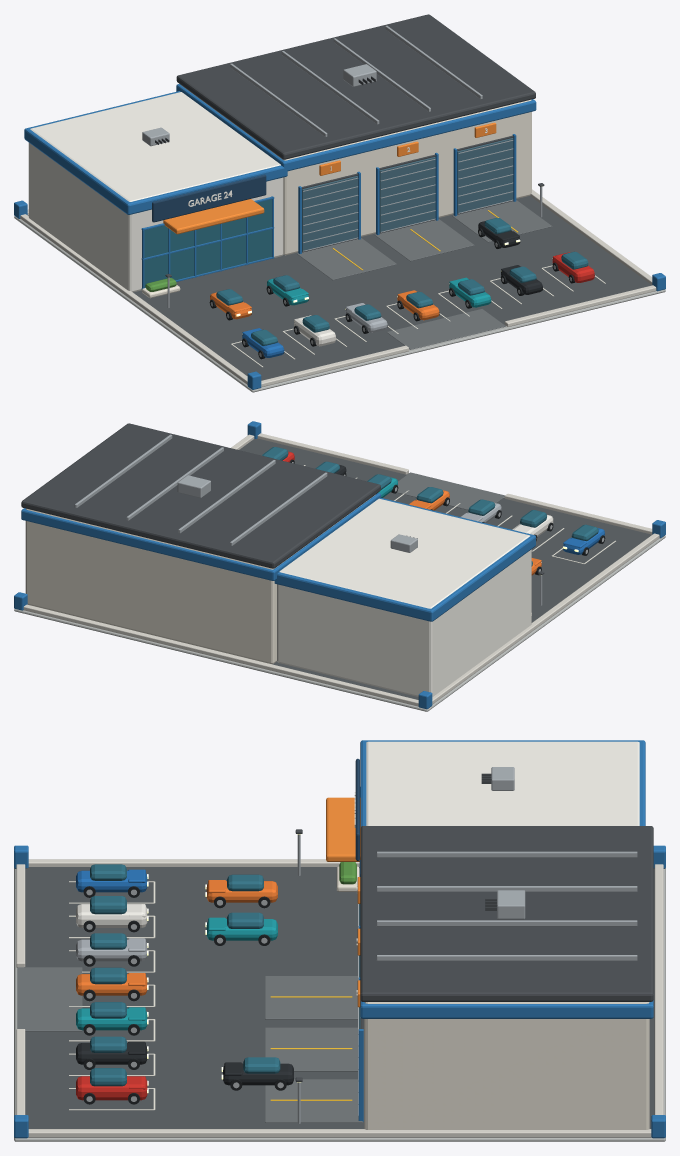
The model's file is dealer_c_service_hub_4x4.glb.
3 views of the same model, one above another, from view 1: azimuth 30°, elevation 25°; view 2: azimuth 150°, elevation 25°; view 3: azimuth 270°, elevation 25° (orthographic). The views are drawn at different scales.
Visible parts, largest first — view 1: Lot_Asphalt.002, C_Workshop_Roof, C_Showroom_Mass, C_Workshop_Mass, C_Showroom_Glass_Glass, C_Workshop_Fascia, C_Bay_3_Door, C_Bay_2_Door, C_Bay_1_Door, C_Showroom_Fascia, Footprint_80x80.002, C_Office_Sign_Board (+13 smaller); view 2: C_Showroom_Mass, C_Workshop_Roof, C_Workshop_Mass, Lot_Asphalt.002, C_Showroom_Fascia, C_Workshop_Fascia, Curb_Back.002, Footprint_80x80.002, Curb_West.002, Entry_Apron.002, Curb_Front_Right.002, Curb_Front_Left.002 (+5 smaller); view 3: Lot_Asphalt.002, C_Workshop_Roof, C_Workshop_Mass, C_Showroom_Mass, Curb_East.002, Footprint_80x80.002, C_Workshop_Fascia, C_Bay_Apron_-0.5, Entry_Apron.002, C_Bay_Apron_14.5, C_Bay_Apron_29.5, Curb_Back.002 (+30 smaller).
Part boxes in pixels (left/top/right/bottom): Lot_Asphalt.002: left=28, top=196, right=651, bottom=380; C_Workshop_Roof: left=176, top=14, right=535, bottom=159; C_Showroom_Mass: left=28, top=92, right=283, bottom=292; C_Workshop_Mass: left=181, top=85, right=531, bottom=255; C_Showroom_Glass_Glass: left=144, top=199, right=271, bottom=287; C_Workshop_Fascia: left=176, top=84, right=536, bottom=171; C_Bay_3_Door: left=457, top=138, right=513, bottom=213; C_Bay_2_Door: left=379, top=157, right=435, bottom=232; C_Bay_1_Door: left=302, top=176, right=357, bottom=251; C_Showroom_Fascia: left=24, top=91, right=287, bottom=214; Footprint_80x80.002: left=14, top=216, right=665, bottom=392; C_Office_Sign_Board: left=152, top=174, right=266, bottom=222; C_Showroom_Mass: left=277, top=498, right=531, bottom=696; C_Workshop_Roof: left=21, top=423, right=380, bottom=568; C_Workshop_Mass: left=25, top=494, right=375, bottom=664; Lot_Asphalt.002: left=239, top=438, right=651, bottom=699; C_Showroom_Fascia: left=274, top=498, right=535, bottom=621; C_Workshop_Fascia: left=21, top=493, right=380, bottom=580; Curb_Back.002: left=23, top=604, right=418, bottom=706; Footprint_80x80.002: left=14, top=473, right=665, bottom=711; Curb_West.002: left=432, top=533, right=659, bottom=704; Entry_Apron.002: left=397, top=472, right=504, bottom=509; Curb_Front_Right.002: left=257, top=433, right=408, bottom=474; Curb_Front_Left.002: left=504, top=493, right=652, bottom=534; Lot_Asphalt.002: left=24, top=867, right=654, bottom=1128; C_Workshop_Roof: left=360, top=826, right=653, bottom=1001; C_Workshop_Mass: left=364, top=1002, right=649, bottom=1129; C_Showroom_Mass: left=366, top=741, right=639, bottom=825; Curb_East.002: left=28, top=1129, right=651, bottom=1137; Footprint_80x80.002: left=14, top=868, right=665, bottom=1141; C_Workshop_Fascia: left=360, top=1000, right=653, bottom=1018; C_Bay_Apron_-0.5: left=265, top=976, right=357, bottom=1019; Entry_Apron.002: left=17, top=967, right=82, bottom=1031; C_Bay_Apron_14.5: left=265, top=1027, right=357, bottom=1071; C_Bay_Apron_29.5: left=265, top=1079, right=362, bottom=1122; Curb_Back.002: left=654, top=864, right=663, bottom=1114.
Bounding box in the file's own units: 80 × 21.98 × 80.
